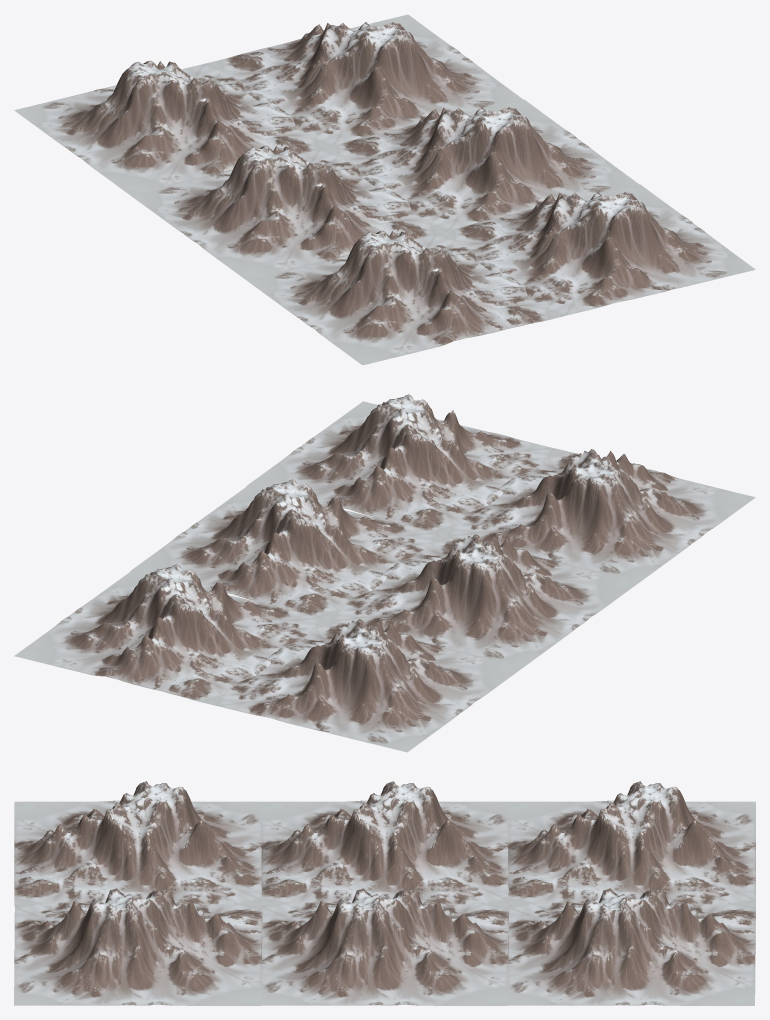
Rendered from mountain terrain model.FBX.
3 renders of one model, top to bottom at view 1: azimuth 30°, elevation 25°; view 2: azimuth 150°, elevation 25°; view 3: azimuth 270°, elevation 25°, orthographic. The views are drawn at different scales.
Visible parts, largest first — view 1: Plane001, Plane002, Plane005, Plane003, Plane006, Plane004; view 2: Plane006, Plane005, Plane001, Plane003, Plane002, Plane004; view 3: Plane002, Plane006, Plane004, Plane001, Plane003, Plane005.
Part boxes in pixels (<box>): Plane001: <box>246,230,563,365</box>; Plane002: <box>440,184,755,317</box>; Plane005: <box>14,60,326,195</box>; Plane003: <box>131,145,442,280</box>; Plane006: <box>211,14,522,147</box>; Plane004: <box>327,99,639,232</box>; Plane006: <box>14,564,326,703</box>; Plane005: <box>207,619,522,752</box>; Plane001: <box>440,448,755,582</box>; Plane003: <box>324,534,639,667</box>; Plane002: <box>246,394,559,534</box>; Plane004: <box>130,479,445,618</box>; Plane002: <box>14,888,262,1005</box>; Plane006: <box>507,888,755,1005</box>; Plane004: <box>260,888,509,1005</box>; Plane001: <box>14,781,261,906</box>; Plane003: <box>261,781,509,905</box>; Plane005: <box>507,781,755,905</box>.
Bounding box in the file's own units: 1953 × 270 × 2997.
1 material, 1 textured.
